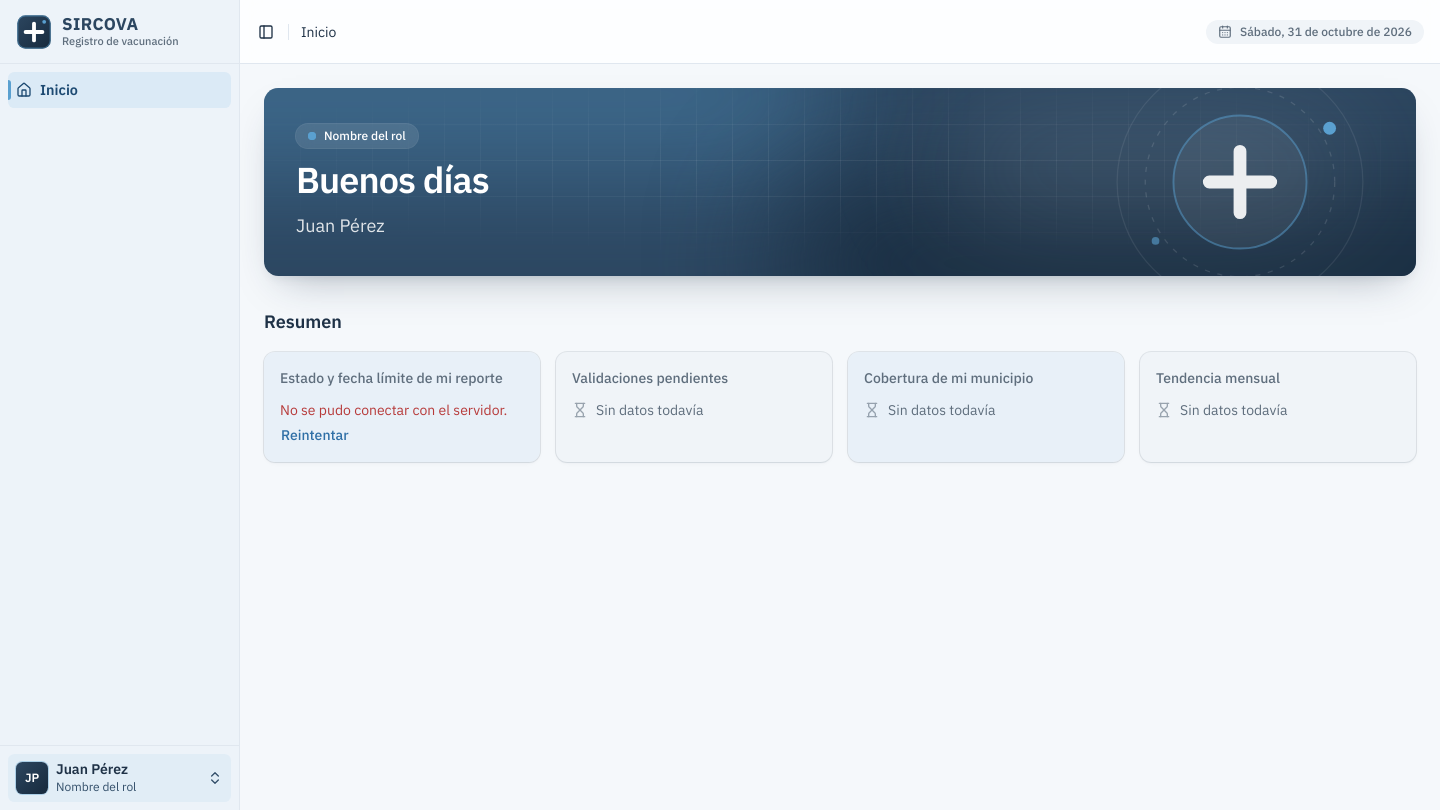
it: tarjetas con datos › si falla la consulta, la tarjeta muestra el error y «Reintentar» vuelve a pedir
Expected: the text "No se pudo conectar con el servidor." is shown, top-left (280, 400), bottom-right (507, 420)
Click the button "Reintentar" at (315,435), box top-left (280, 424), bottom-right (350, 446)
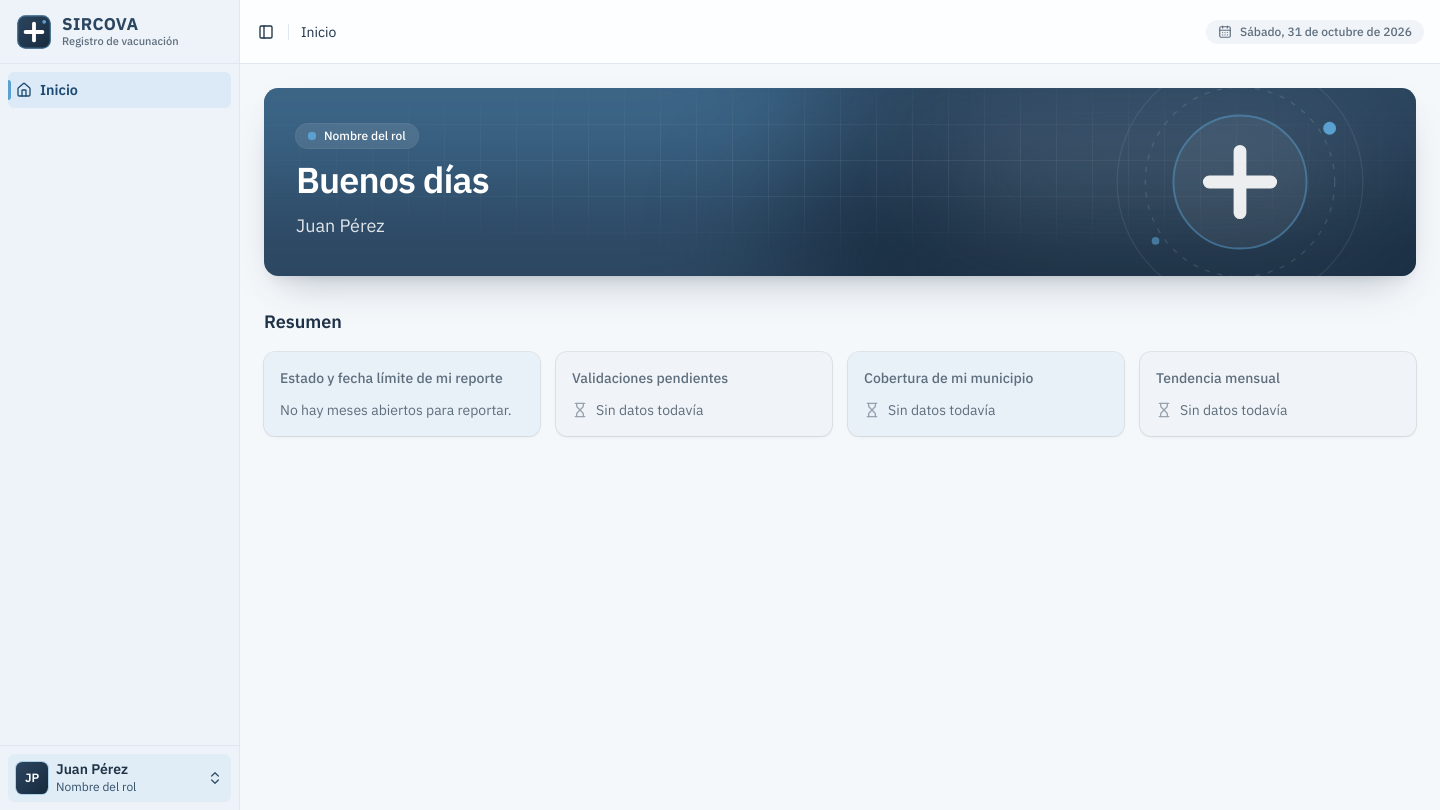
Now the text "No hay meses abiertos para reportar." is shown, box top-left (280, 400), bottom-right (524, 420)
